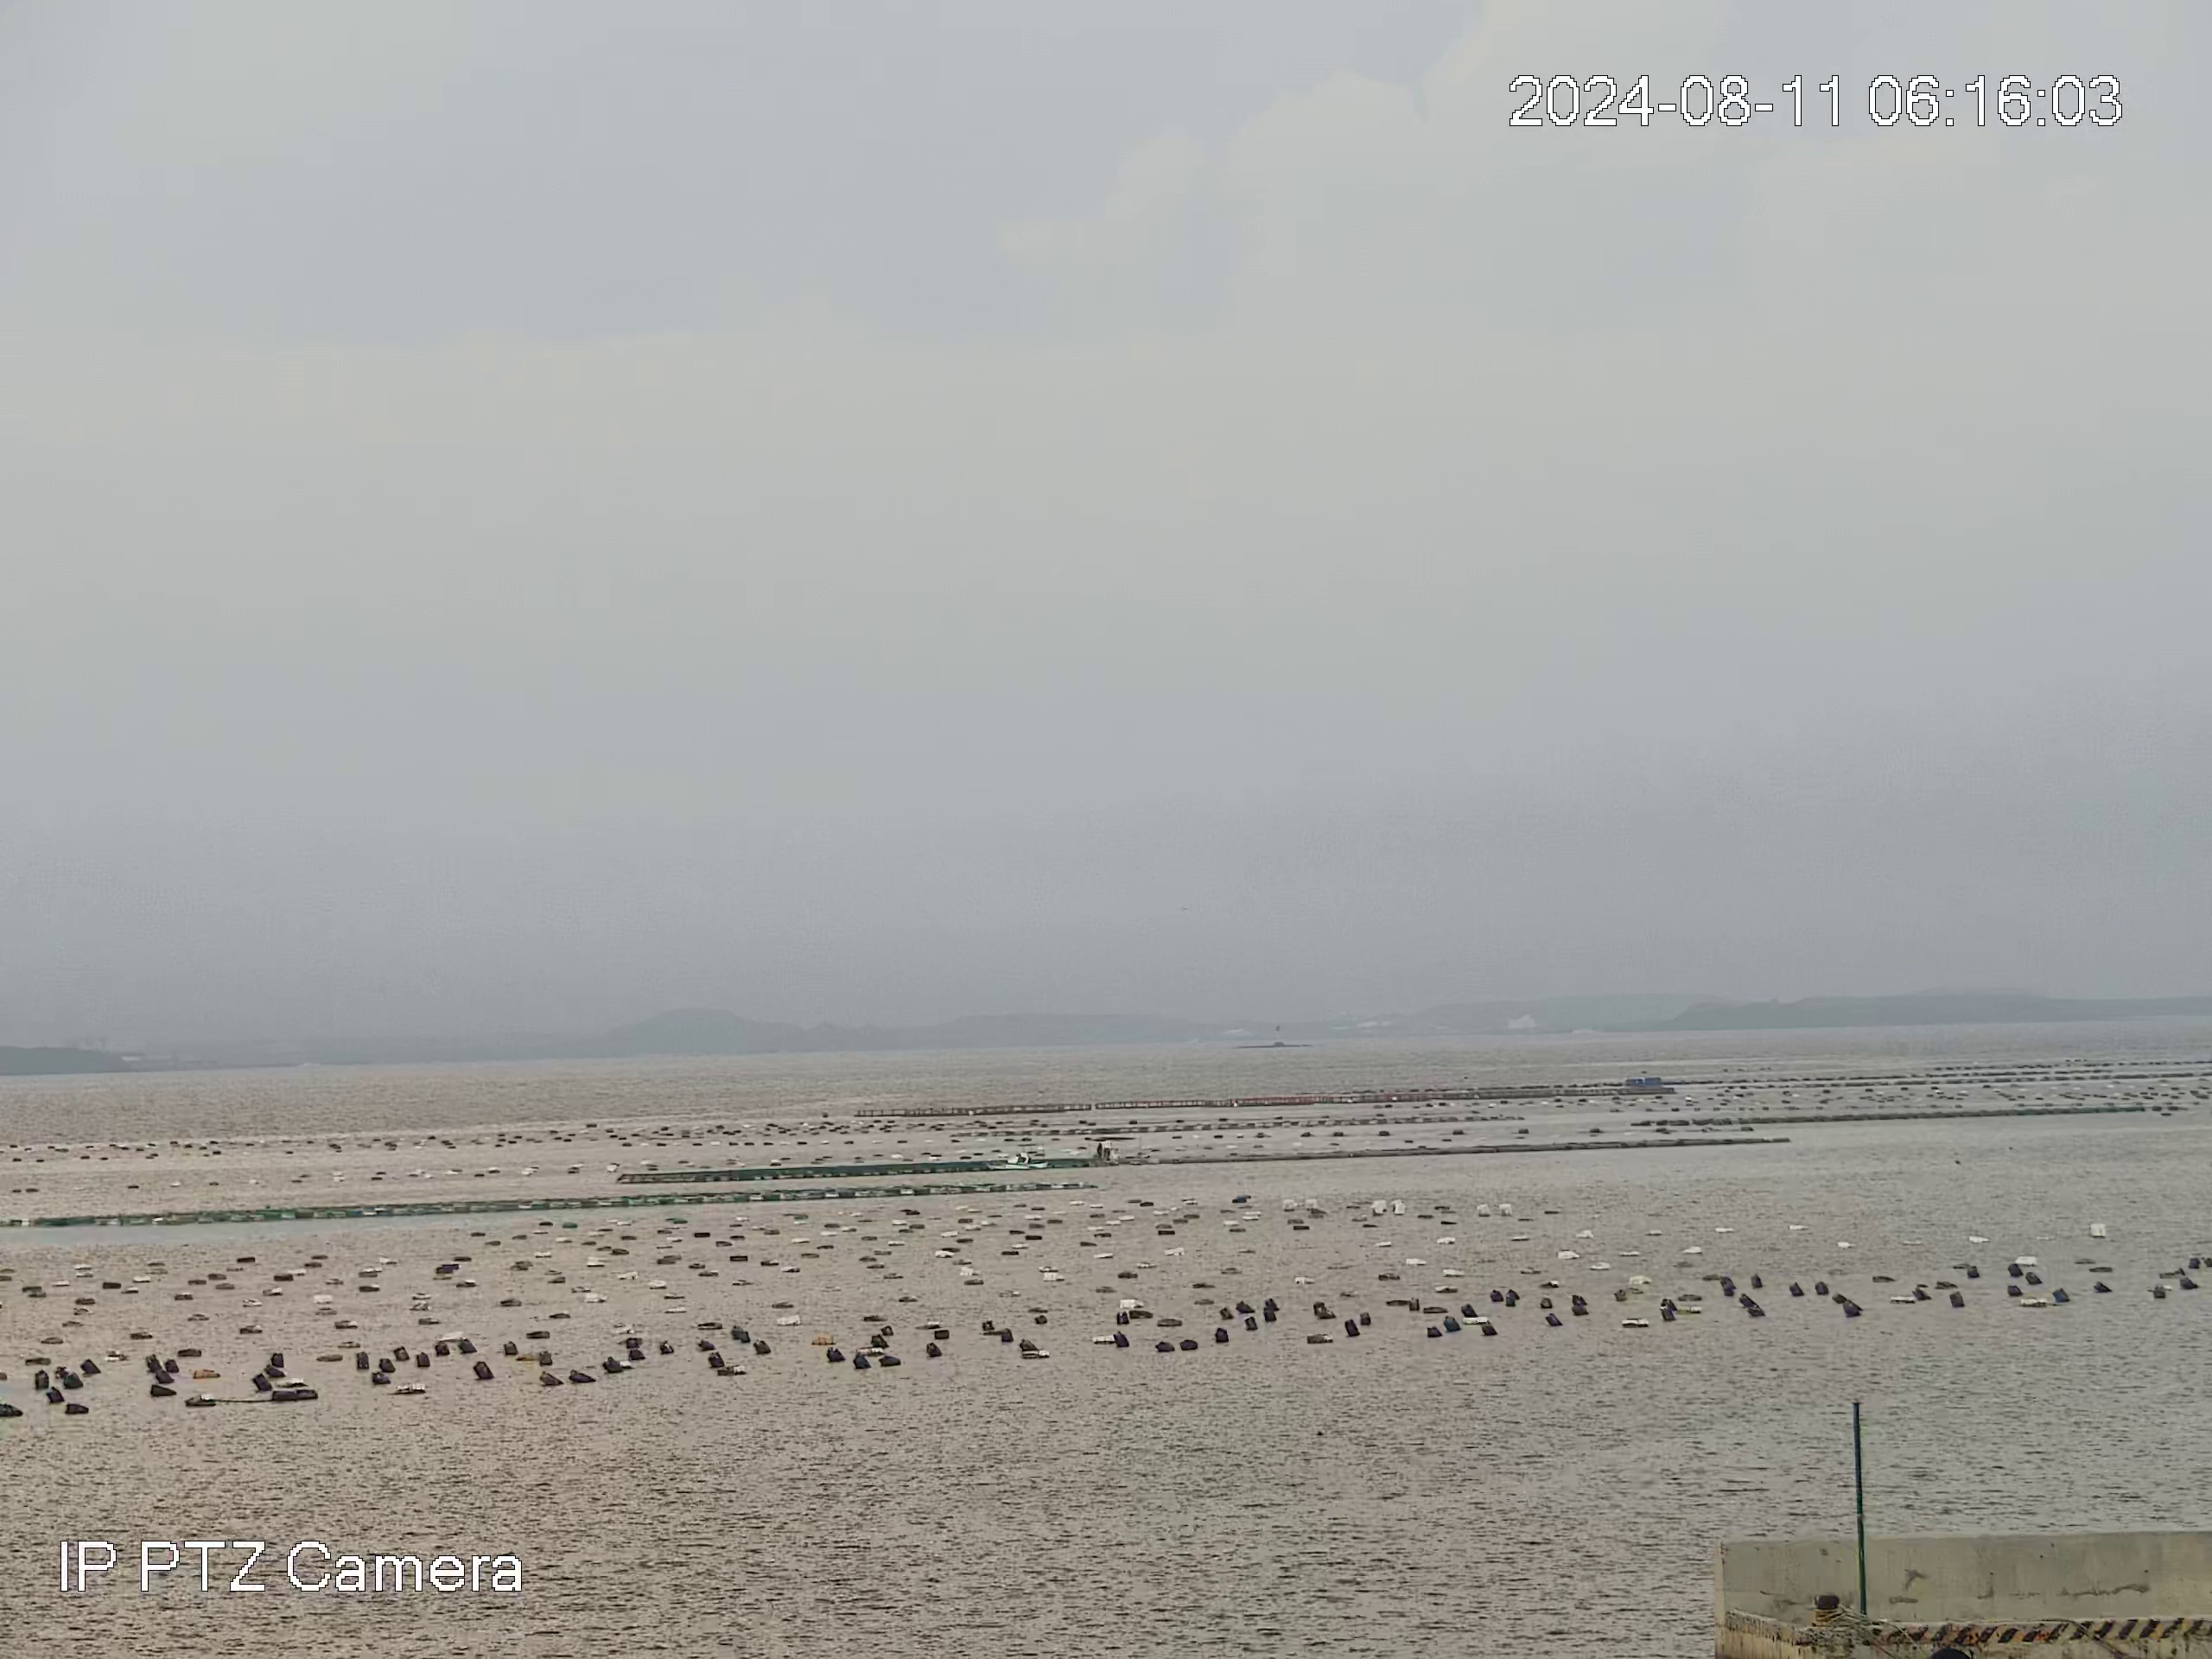boat: (982, 1149, 1050, 1172)
